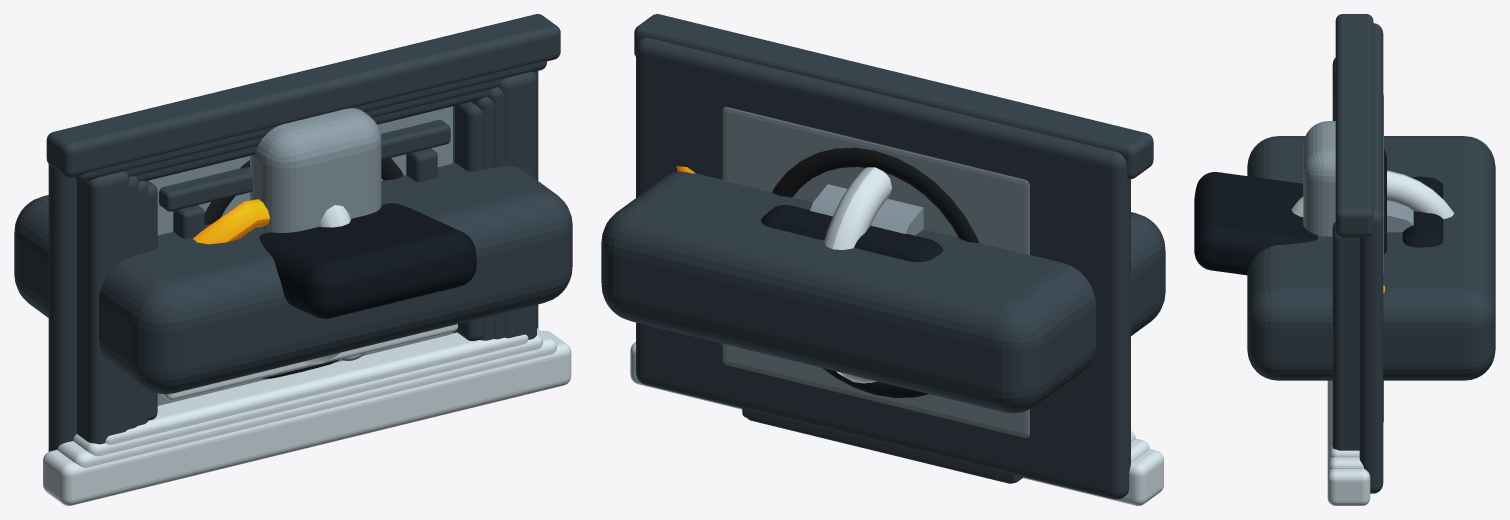
The model's file is body_36.glb.
3 renders of one model, left to right at view 1: azimuth 30°, elevation 25°; view 2: azimuth 150°, elevation 25°; view 3: azimuth 270°, elevation 25°, orthographic. The views are drawn at different scales.
Visible parts, largest first — view 1: asset_mesh__body_1592__reference_body, asset_mesh__body_1574__lower_flange, asset_mesh__body_1574__upper_flange, asset_mesh__body_1577__seat_back, asset_mesh__body_1572__transmission_tunnel_relief, asset_mesh__body_1574__left_reinforcement, asset_mesh__body_1571__upper_flange, asset_mesh__body_1574__stamped_sheet, asset_mesh__body_1573__upper_flange, asset_mesh__body_1572__upper_flange, asset_mesh__body_1575__lower_flange, asset_mesh__body_1574__right_reinforcement (+16 smaller); view 2: asset_mesh__body_1592__reference_body, asset_mesh__body_1574__stamped_sheet, asset_mesh__body_1581__door_shell, asset_mesh__body_1574__lower_flange, asset_mesh__body_1599__service_element, asset_mesh__body_1577__seat_cushion, asset_mesh__body_1596__functional_ring, asset_mesh__body_1581__window_frame_top, asset_mesh__body_1574__upper_flange, asset_mesh__body_1596__rotor; view 3: asset_mesh__body_1592__reference_body, asset_mesh__body_1577__seat_back, asset_mesh__body_1574__lower_flange, asset_mesh__body_1574__stamped_sheet, asset_mesh__body_1574__right_reinforcement, asset_mesh__body_1572__transmission_tunnel_relief, asset_mesh__body_1596__functional_ring, asset_mesh__body_1574__upper_flange, asset_mesh__body_1577__seat_cushion, asset_mesh__body_1596__rotor, asset_mesh__body_1573__upper_flange.
Part boxes in pixels (left/top/right/bottom): asset_mesh__body_1592__reference_body: left=14, top=162, right=572, bottom=394; asset_mesh__body_1574__lower_flange: left=46, top=14, right=560, bottom=177; asset_mesh__body_1574__upper_flange: left=43, top=331, right=571, bottom=505; asset_mesh__body_1577__seat_back: left=259, top=203, right=476, bottom=318; asset_mesh__body_1572__transmission_tunnel_relief: left=250, top=108, right=381, bottom=232; asset_mesh__body_1574__left_reinforcement: left=77, top=171, right=129, bottom=444; asset_mesh__body_1571__upper_flange: left=105, top=332, right=528, bottom=444; asset_mesh__body_1574__stamped_sheet: left=48, top=71, right=538, bottom=451; asset_mesh__body_1573__upper_flange: left=57, top=328, right=556, bottom=467; asset_mesh__body_1572__upper_flange: left=73, top=334, right=542, bottom=456; asset_mesh__body_1575__lower_flange: left=159, top=119, right=450, bottom=211; asset_mesh__body_1574__right_reinforcement: left=498, top=72, right=536, bottom=339; asset_mesh__body_1592__reference_body: left=601, top=171, right=1165, bottom=413; asset_mesh__body_1574__stamped_sheet: left=636, top=37, right=1130, bottom=499; asset_mesh__body_1581__door_shell: left=722, top=107, right=1029, bottom=437; asset_mesh__body_1574__lower_flange: left=634, top=14, right=1153, bottom=179; asset_mesh__body_1599__service_element: left=772, top=147, right=979, bottom=397; asset_mesh__body_1577__seat_cushion: left=761, top=205, right=942, bottom=262; asset_mesh__body_1596__functional_ring: left=824, top=167, right=891, bottom=383; asset_mesh__body_1581__window_frame_top: left=747, top=410, right=1012, bottom=483; asset_mesh__body_1574__upper_flange: left=630, top=342, right=1163, bottom=505; asset_mesh__body_1596__rotor: left=810, top=184, right=923, bottom=235; asset_mesh__body_1592__reference_body: left=1247, top=136, right=1495, bottom=380; asset_mesh__body_1577__seat_back: left=1194, top=172, right=1317, bottom=275; asset_mesh__body_1574__lower_flange: left=1335, top=14, right=1373, bottom=236; asset_mesh__body_1574__stamped_sheet: left=1359, top=23, right=1383, bottom=493; asset_mesh__body_1574__right_reinforcement: left=1332, top=222, right=1359, bottom=450; asset_mesh__body_1572__transmission_tunnel_relief: left=1303, top=121, right=1335, bottom=236; asset_mesh__body_1596__functional_ring: left=1291, top=170, right=1454, bottom=219; asset_mesh__body_1574__upper_flange: left=1327, top=380, right=1370, bottom=505; asset_mesh__body_1577__seat_cushion: left=1402, top=176, right=1443, bottom=247; asset_mesh__body_1596__rotor: left=1387, top=200, right=1413, bottom=232; asset_mesh__body_1573__upper_flange: left=1328, top=380, right=1364, bottom=469.
Size of the model in its own units: 1.72 by 1.16 by 1.07.
